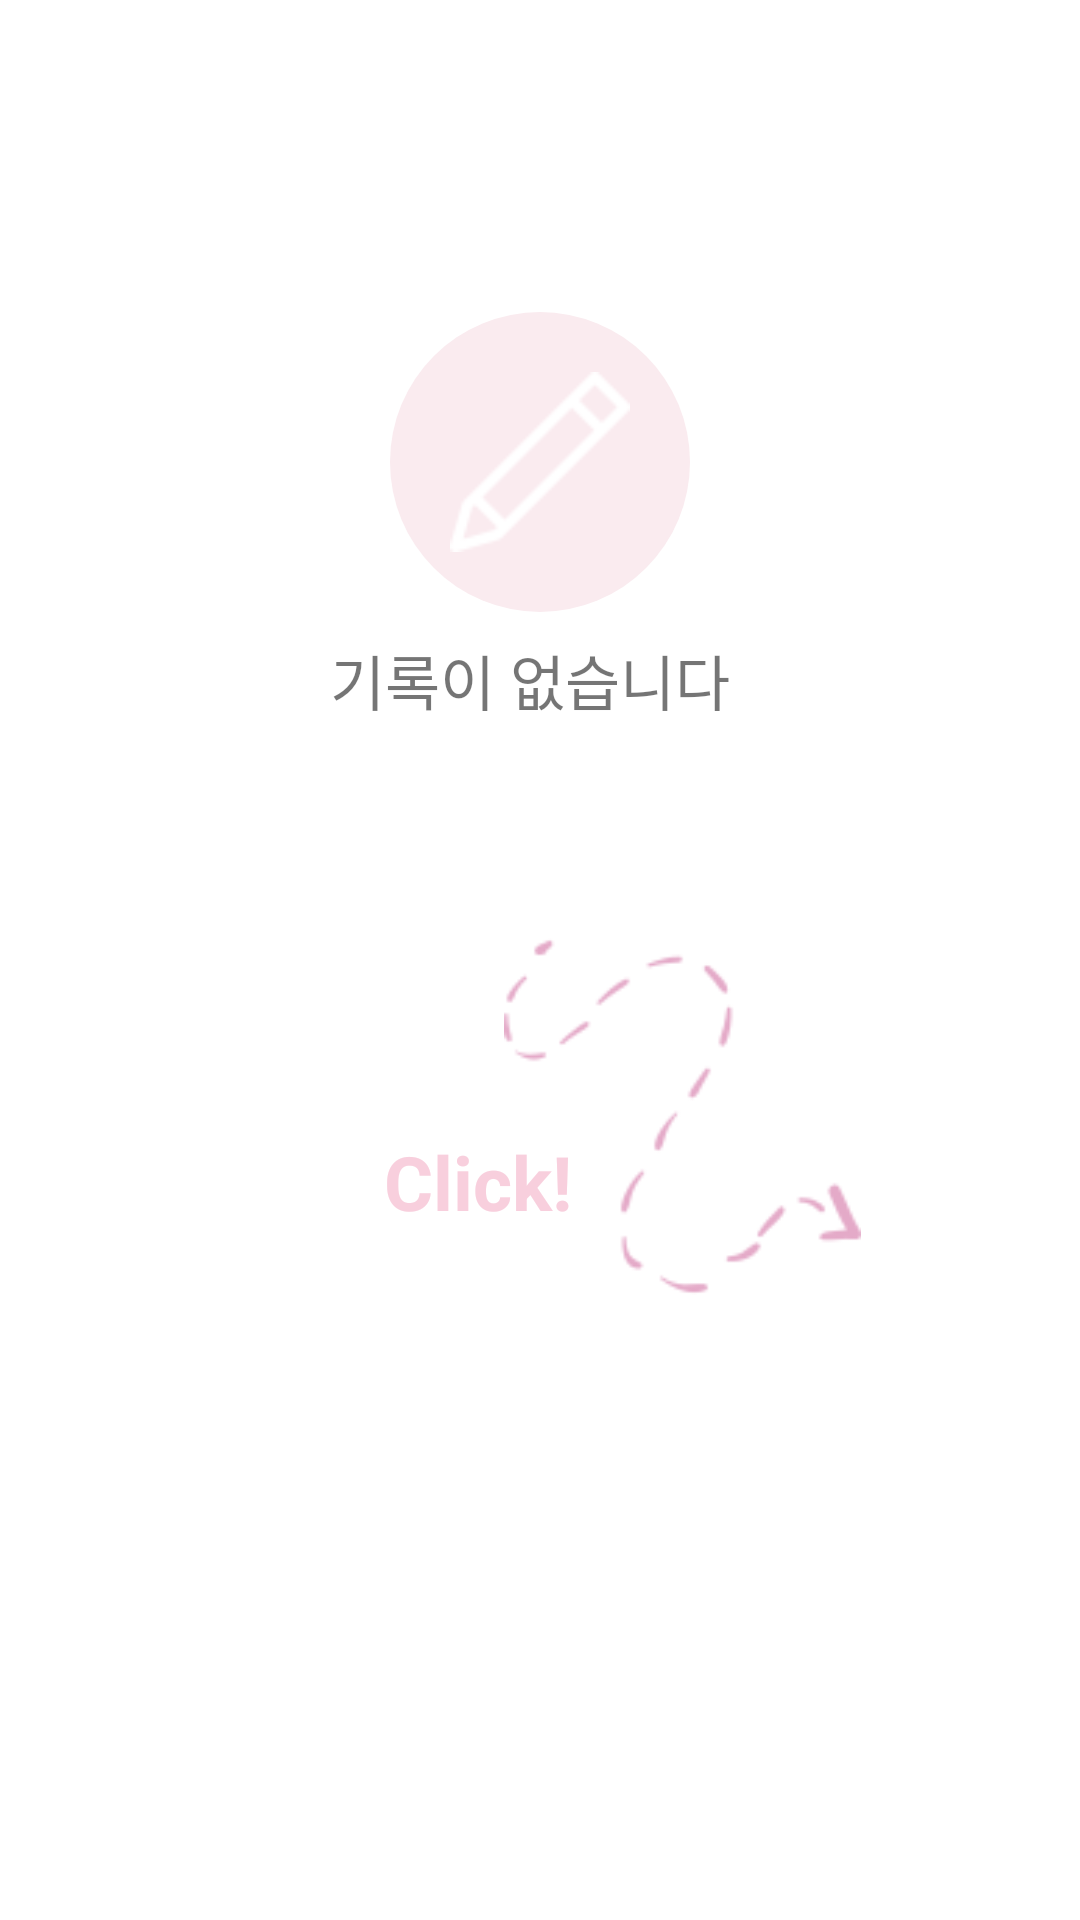

Named icons in this screenshot (1080px x 1920px) and their centers, (x=x, y=y):
dotted line: (x=682, y=1116)
